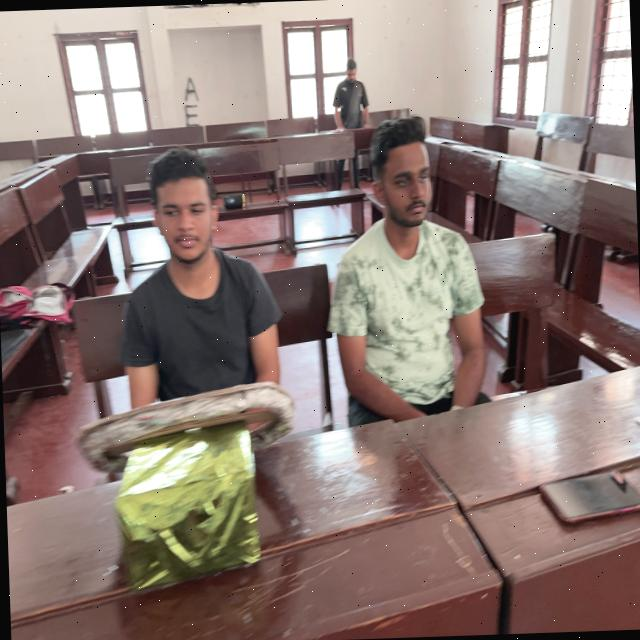no-seatbelt: (118, 262, 286, 473), (334, 218, 486, 442)
